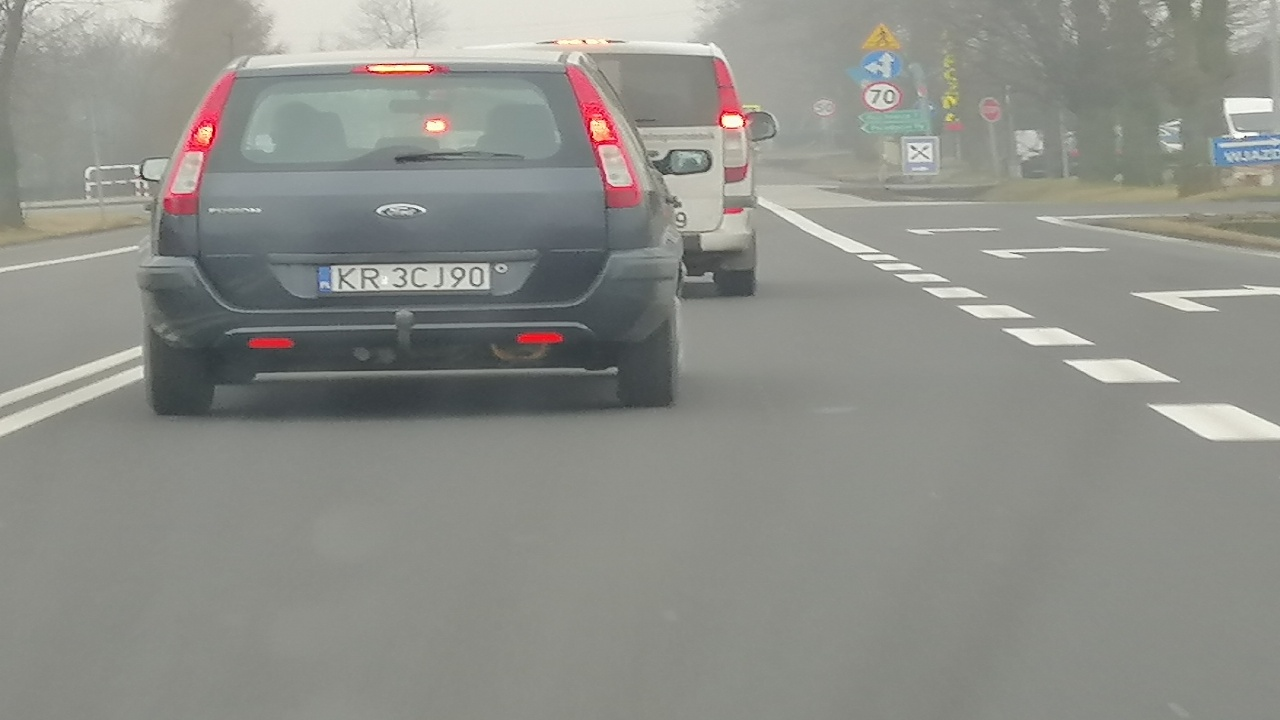B33_70: (864, 79, 900, 115)
C7: (861, 50, 899, 88)
